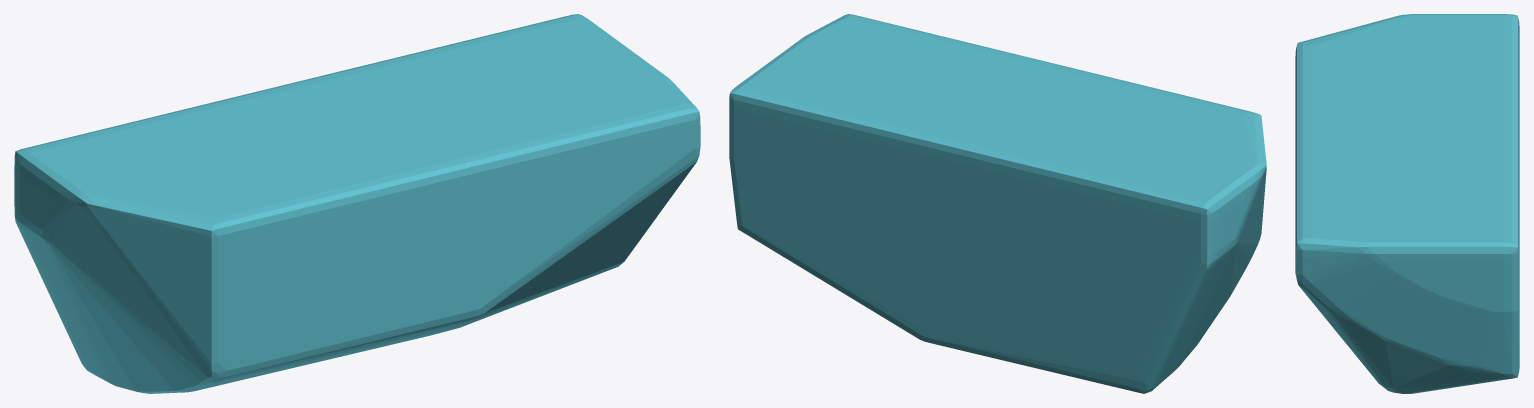
File: right_shoulder_pitch_link_part_2.obj
The picture shows the model from 3 angles, left to right: view 1: azimuth 30°, elevation 25°; view 2: azimuth 150°, elevation 25°; view 3: azimuth 270°, elevation 25°; orthographic projection. The views are drawn at different scales.
Bounding box in the file's own units: 0.0673 × 0.0273 × 0.0271.
